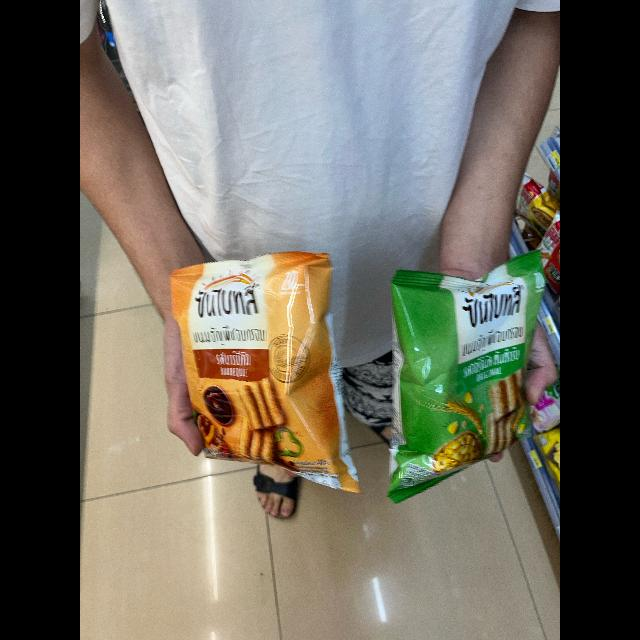snack_bag: (158, 244, 376, 498), (376, 256, 550, 498)
